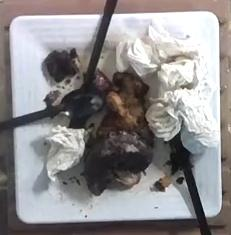chicken: (98, 72, 153, 145)
donut: (84, 130, 152, 195)
